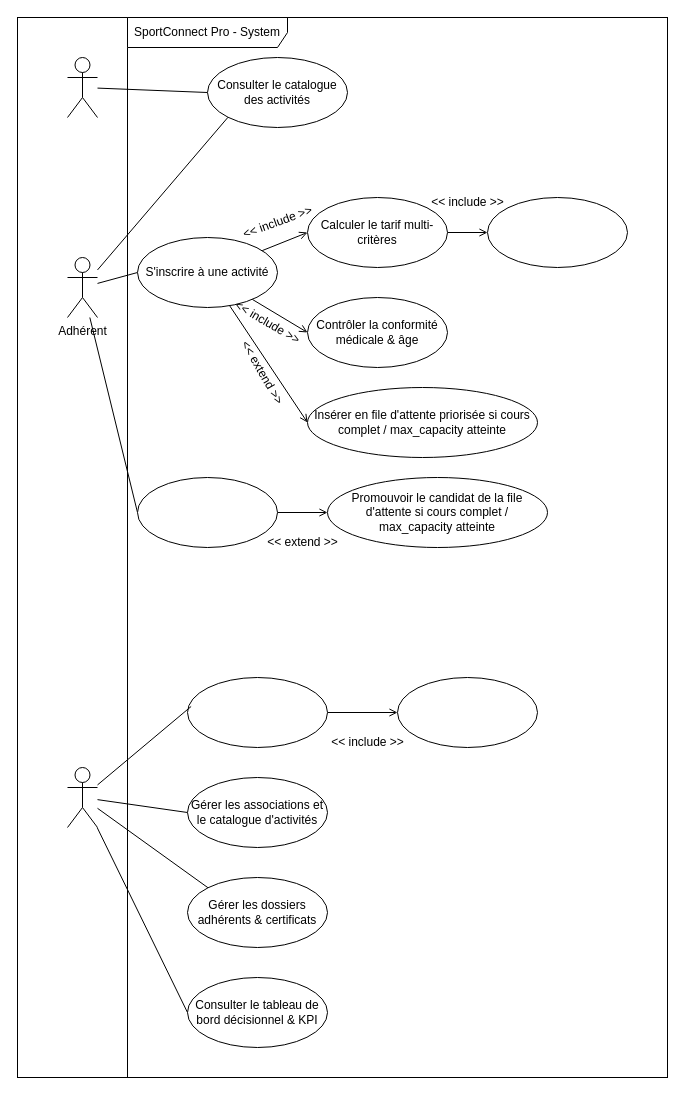
Some shapes in this 685 by 1095 pixel diagram are drawn without their labels. Here are the shapes that lost their labels. From the top down, the centre of each, then its label:
At point (82, 87): "Visiteur / Usager".
At point (557, 232): "Appliquer remises QF, Fratrie, Pass'Sport".
At point (207, 512): "Annuler une inscription".
At point (257, 712): "Gérer les infrastructures et jauges ERP".
At point (467, 712): "Contrôler le chevauchement des créneaux".
At point (82, 797): "Administrateur".
